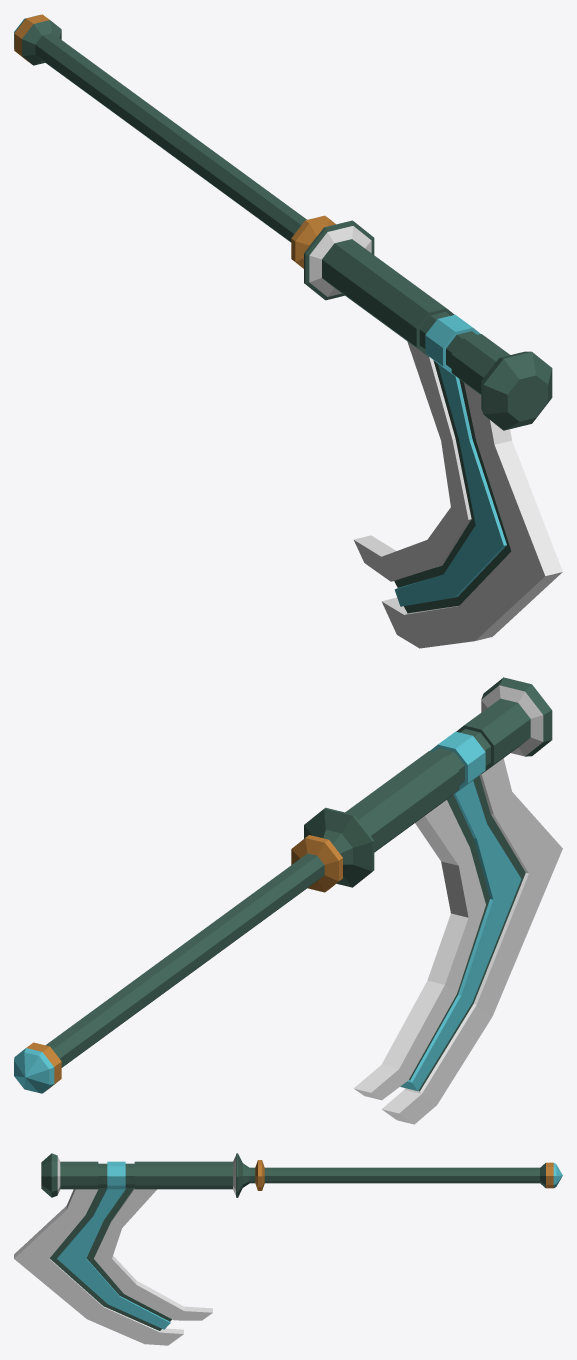
Rendered from sickle.fbx.
3 views of the same model, one above another, from view 1: azimuth 30°, elevation 25°; view 2: azimuth 150°, elevation 25°; view 3: azimuth 270°, elevation 25° (orthographic). The views are drawn at different scales.
Parts seen in each view (by area): view 1: sickle; view 2: sickle; view 3: sickle.
Part boxes in pixels (left/top/right/bottom): sickle: left=14, top=14, right=562, bottom=648; sickle: left=14, top=677, right=562, bottom=1124; sickle: left=14, top=1153, right=562, bottom=1345.
Size of the model in its own units: 103 by 513 by 1368.
